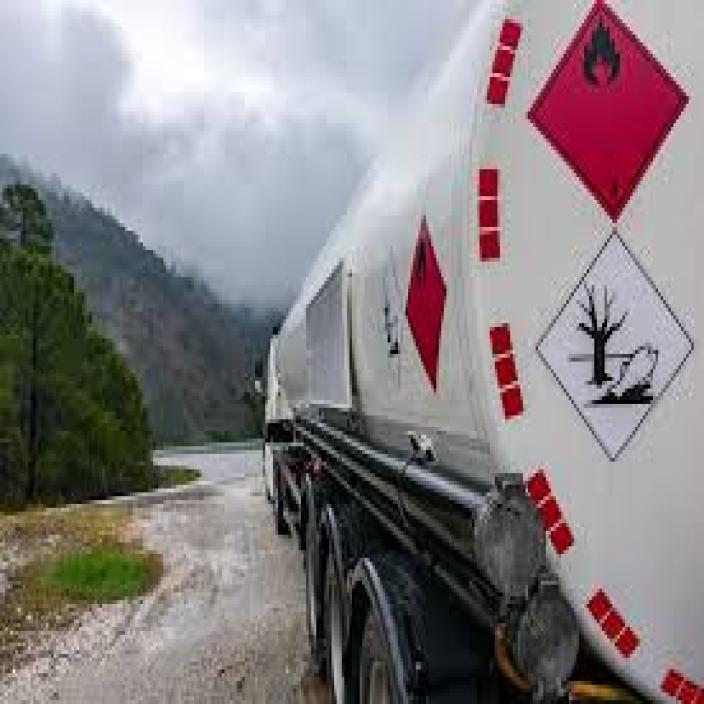chair: (522, 1, 691, 224)
